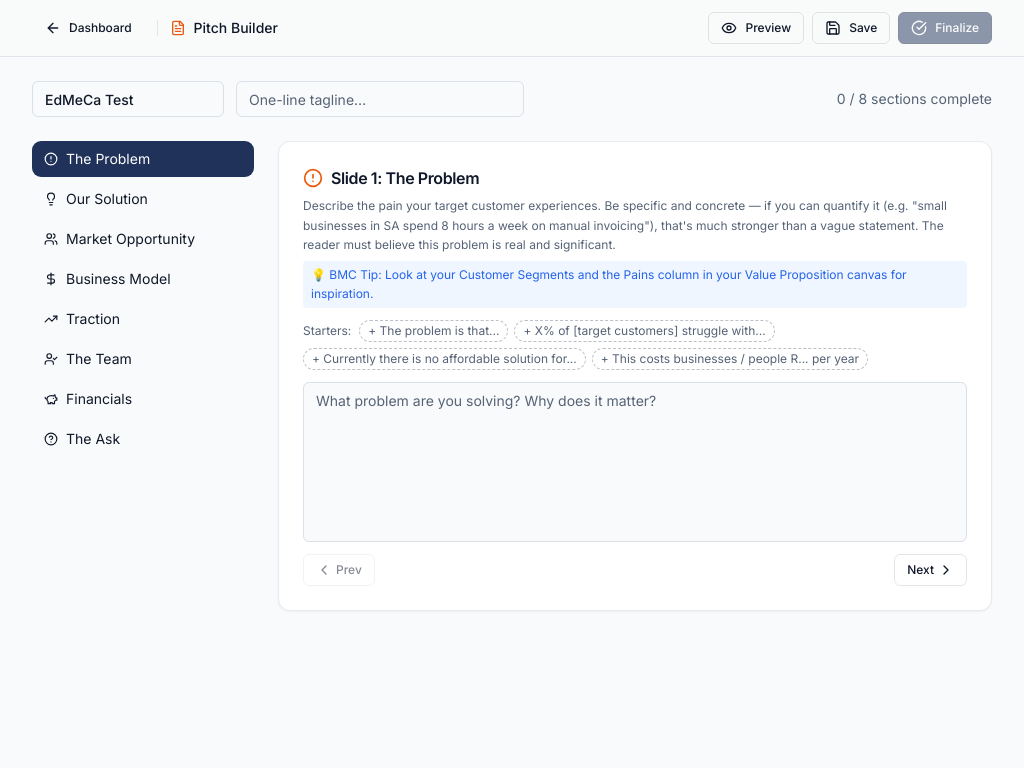
PitchBuilderTool › clicking Next advances to the Solution section
Expected: the text "Slide 1: The Problem" is shown, [303, 168, 479, 188]
Click the button "Next" at (931, 570), box [894, 554, 967, 586]
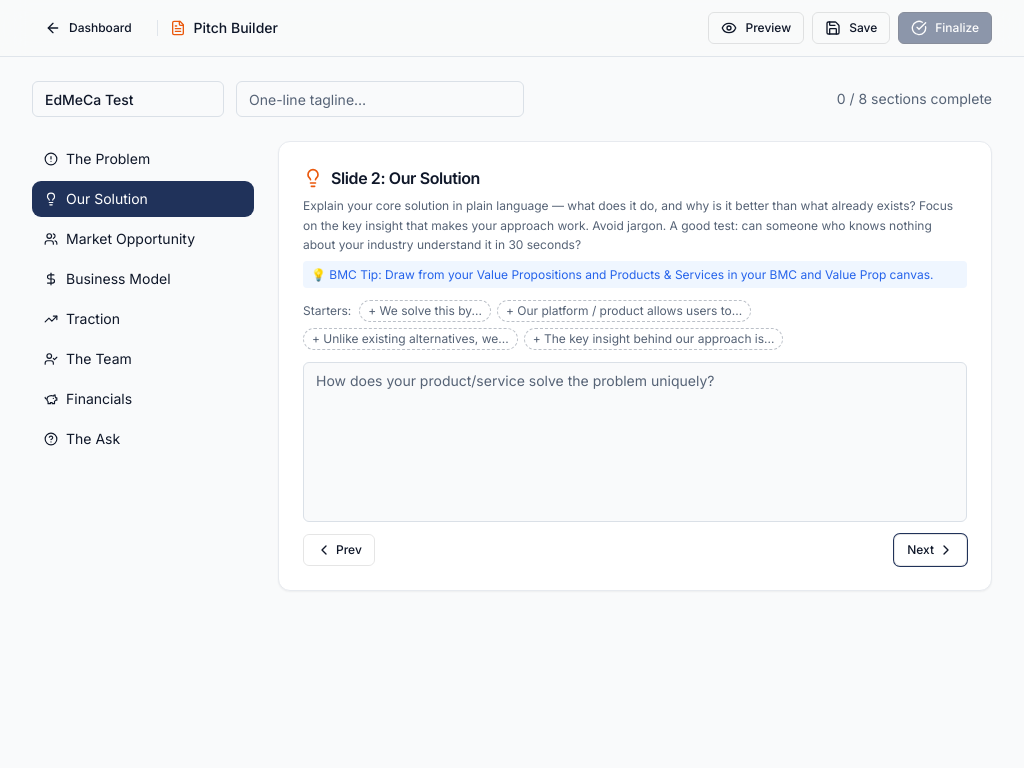
Expected: the text "Slide 2: Our Solution" is shown, [303, 168, 480, 188]
